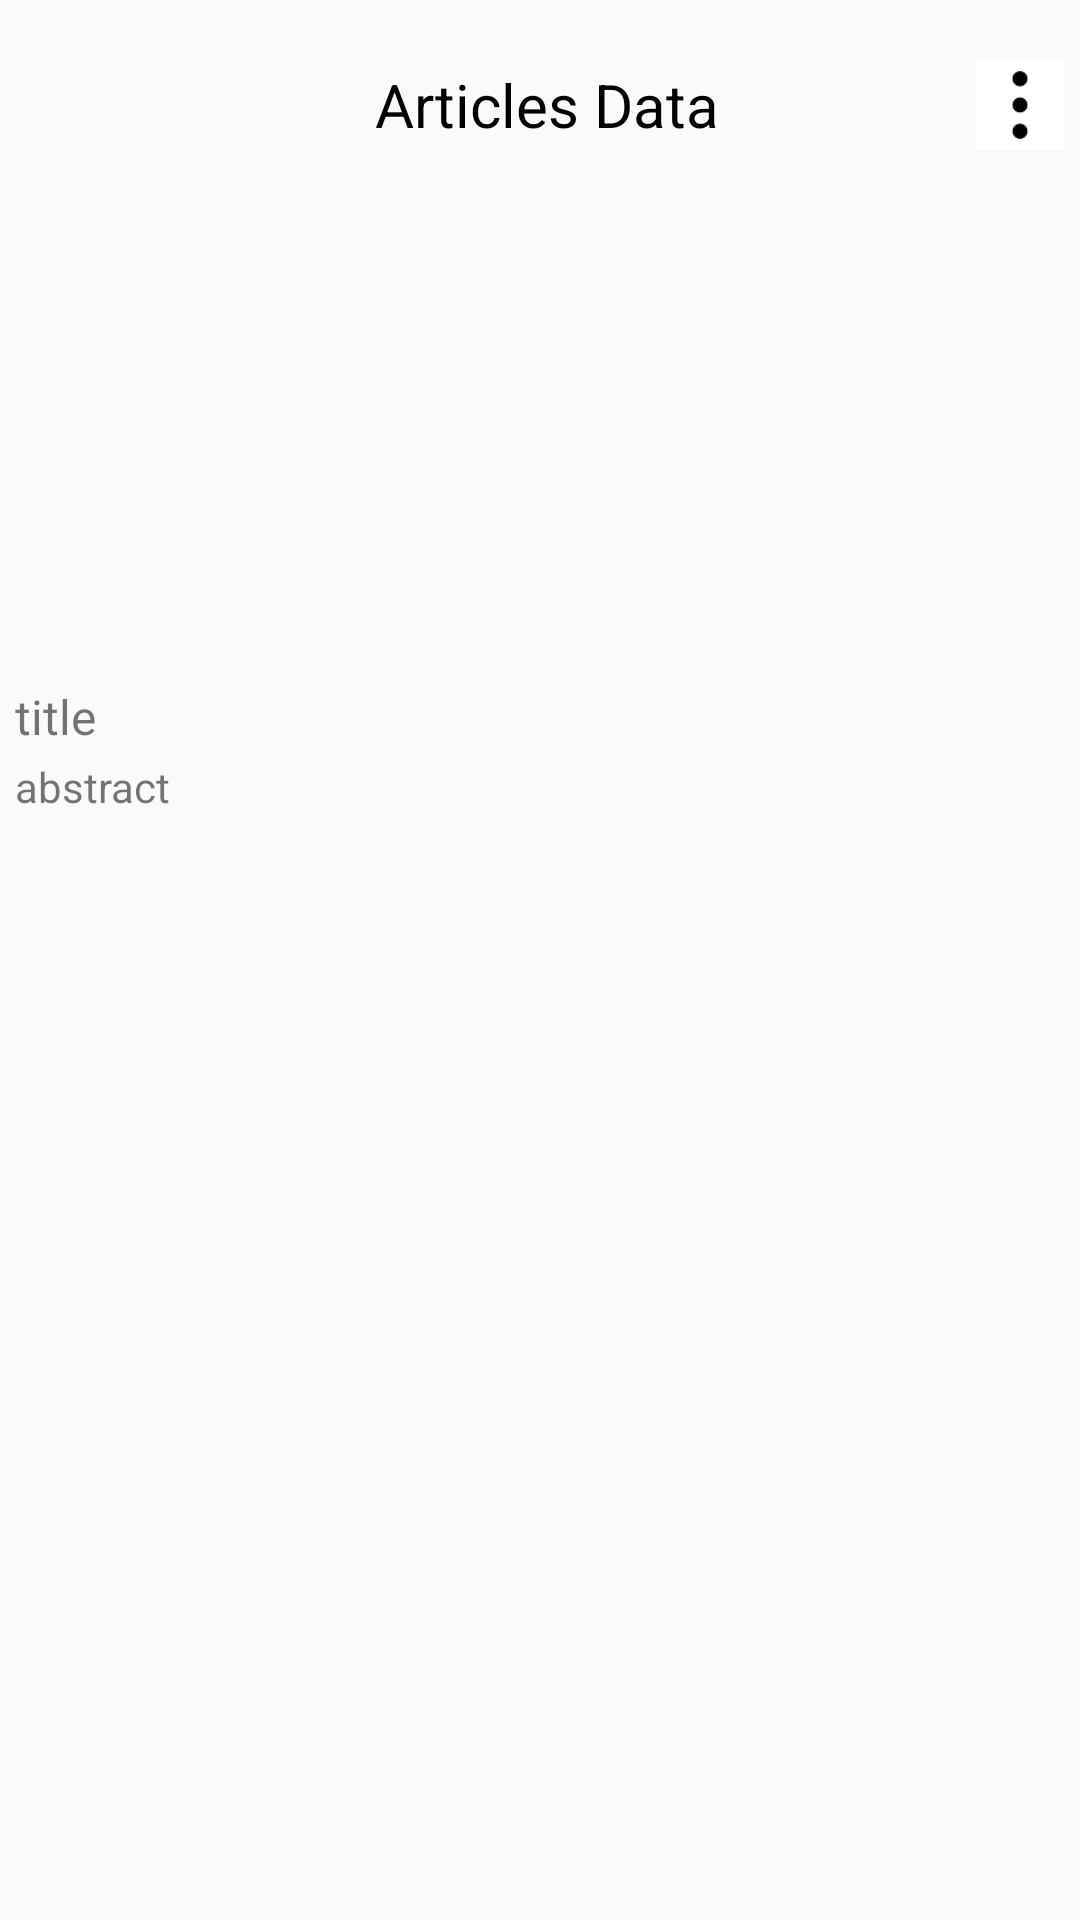

Named icons in this screenshot (1080w x 1920h) and their centers, [x,y]:
dots: [1020,105]
